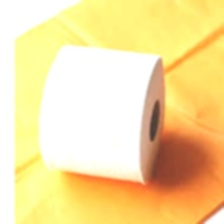tissue: (34, 38, 171, 188)
